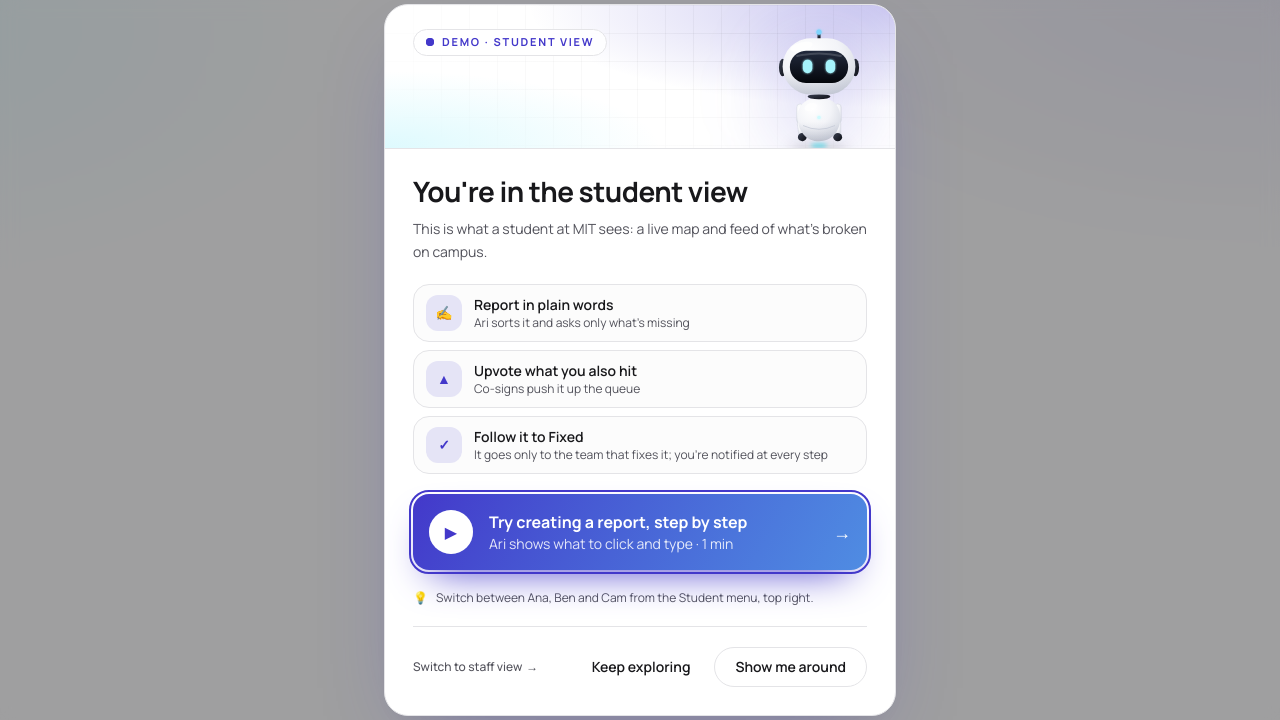
it: Onboarding › asks to report an incident only after the welcome is dismissed
Expected: the heading "You're in the student view" is shown, [413, 172, 748, 210]
Click the button "Keep exploring".
click(641, 667)  # box [576, 647, 706, 687]
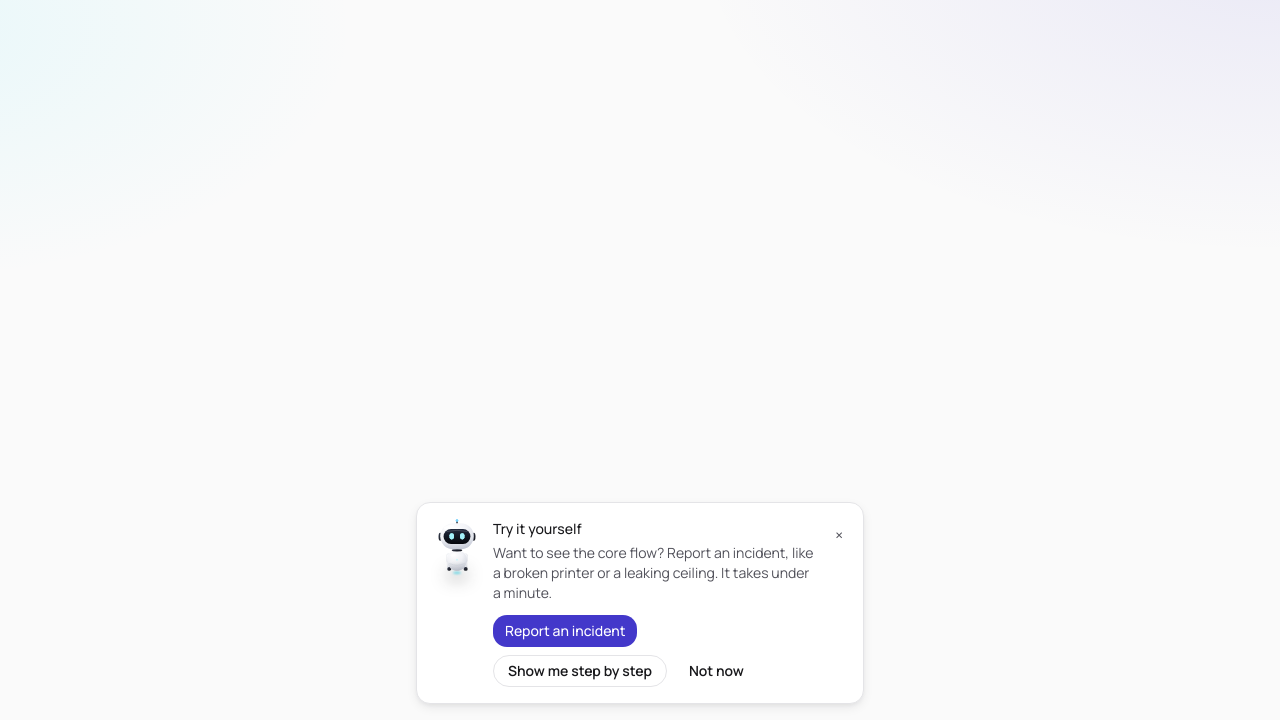
Expected: the heading "You're in the student view" is gone
Expected: the text "Try it yourself" is shown, [493, 519, 582, 538]
